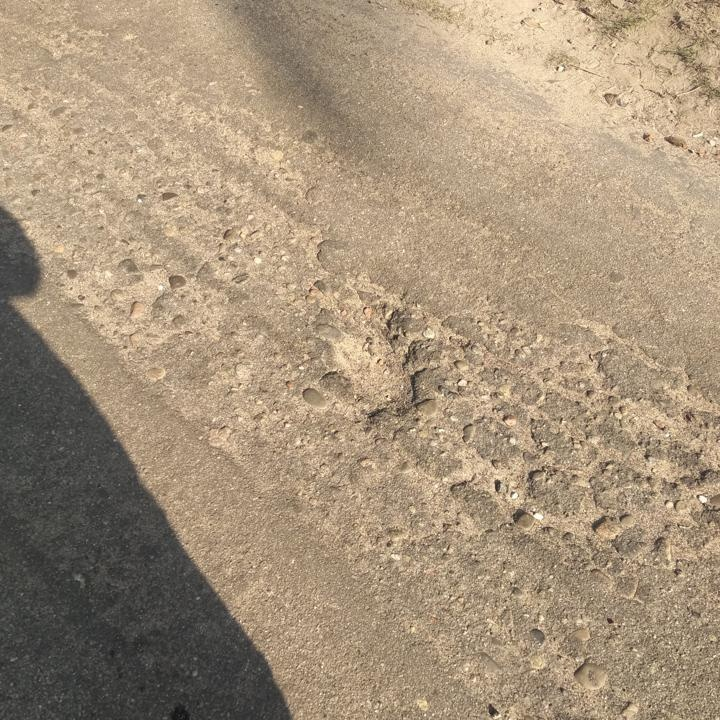pothole: (333, 313, 424, 420)
